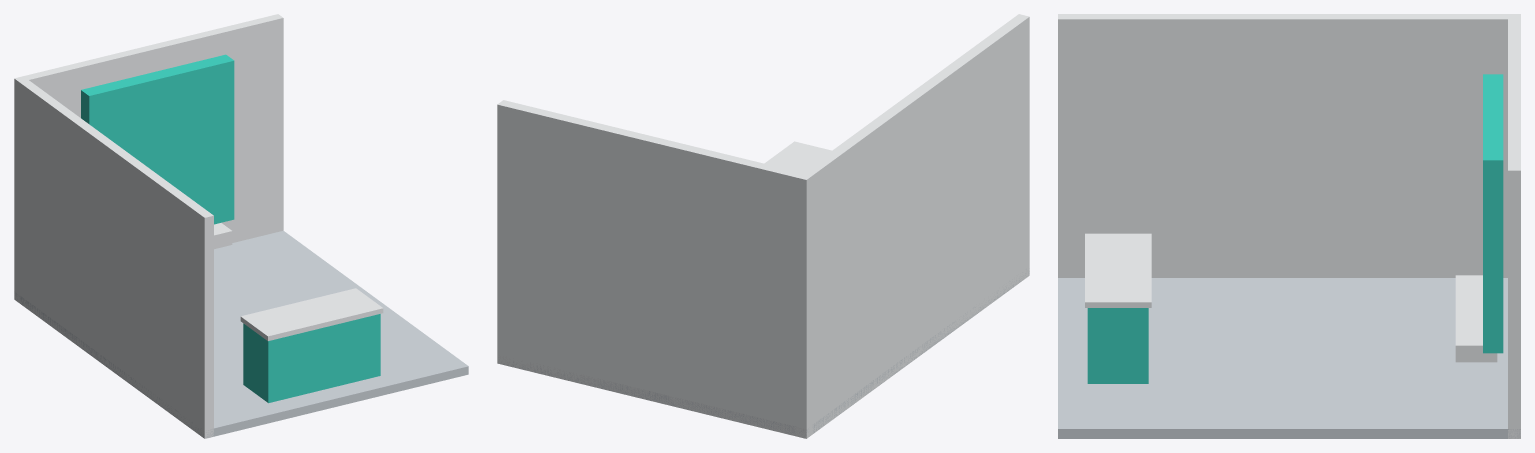
The picture shows the model from 3 angles, left to right: view 1: azimuth 30°, elevation 25°; view 2: azimuth 150°, elevation 25°; view 3: azimuth 270°, elevation 25°; orthographic projection. The views are drawn at different scales.
Visible parts, largest first — view 1: Exhibition Booth Concept; view 2: Exhibition Booth Concept; view 3: Exhibition Booth Concept.
Boxes of the visible parts, <box> form: Exhibition Booth Concept: <box>14,14,468,438</box>; Exhibition Booth Concept: <box>497,14,1029,438</box>; Exhibition Booth Concept: <box>1058,14,1520,438</box>.
Size of the model in its own units: 4 by 3.2 by 5.
